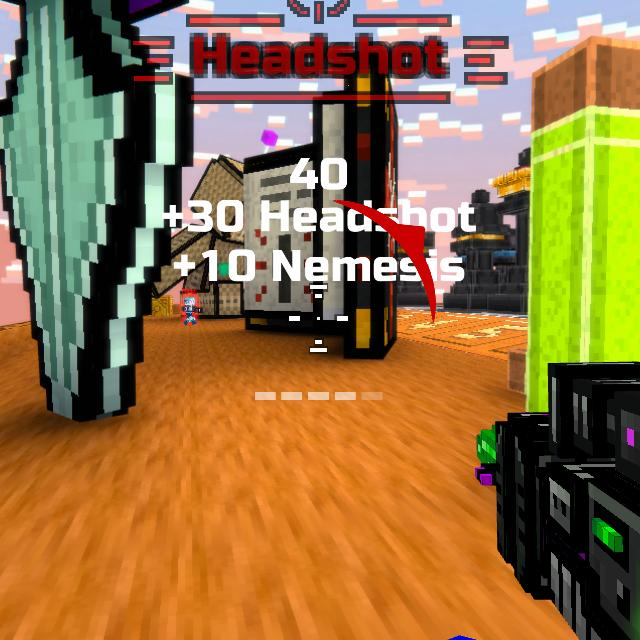Enemy: (181, 297, 201, 326)
